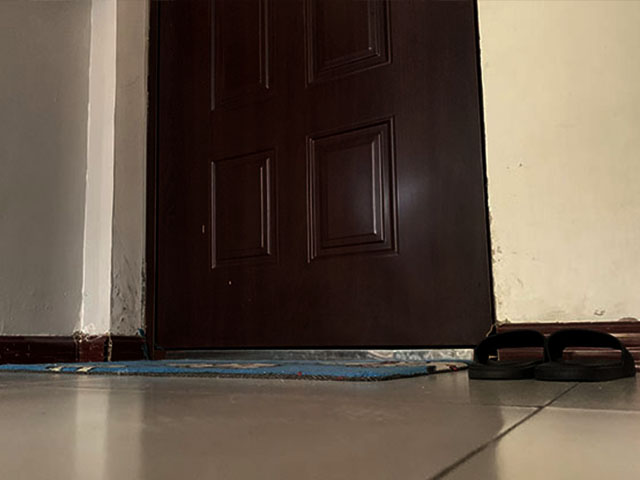carpet: (1, 357, 470, 382)
slippers: (462, 328, 639, 383)
